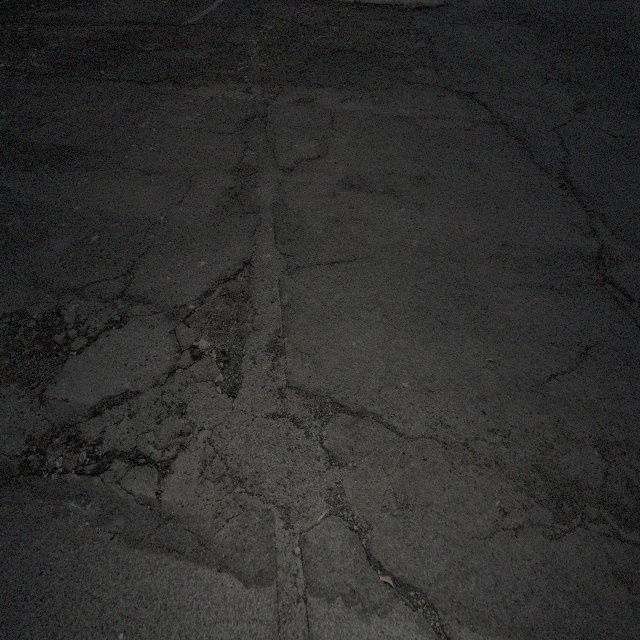pothole: (5, 290, 119, 402), (184, 257, 255, 393), (375, 561, 447, 636)
